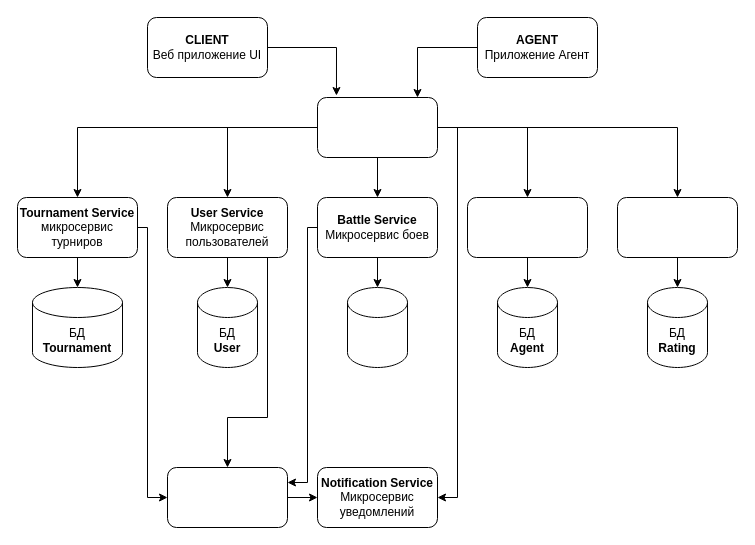
The diagram is 755 pixels wide and 545 high, and some of its shapes have lost their labels. Each missing label, with the box of its shape:
Agent Service Микросервис агентов: (466, 196, 588, 258)
API GATEWAY: (316, 96, 438, 158)
RabbitMQ Брокер сообщений: (166, 466, 288, 528)
Rating Service Микросервис рейтингов: (616, 196, 738, 258)
БД Battle: (346, 286, 408, 368)
